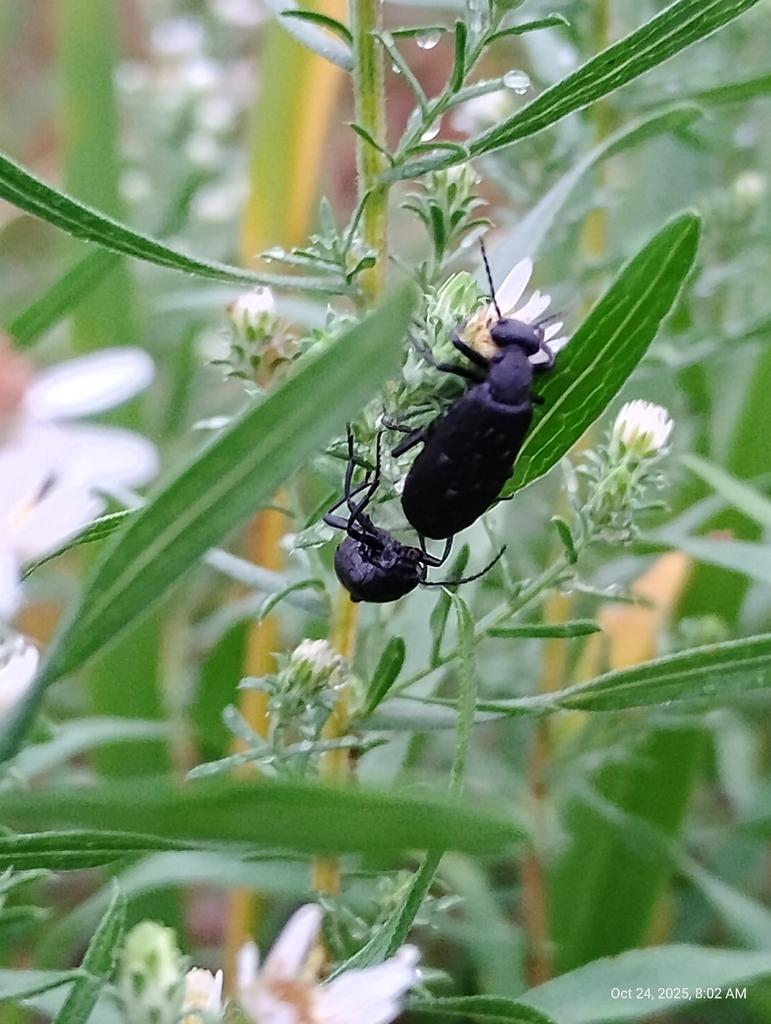blister_beetle: (354, 189, 642, 565), (269, 399, 521, 683)
